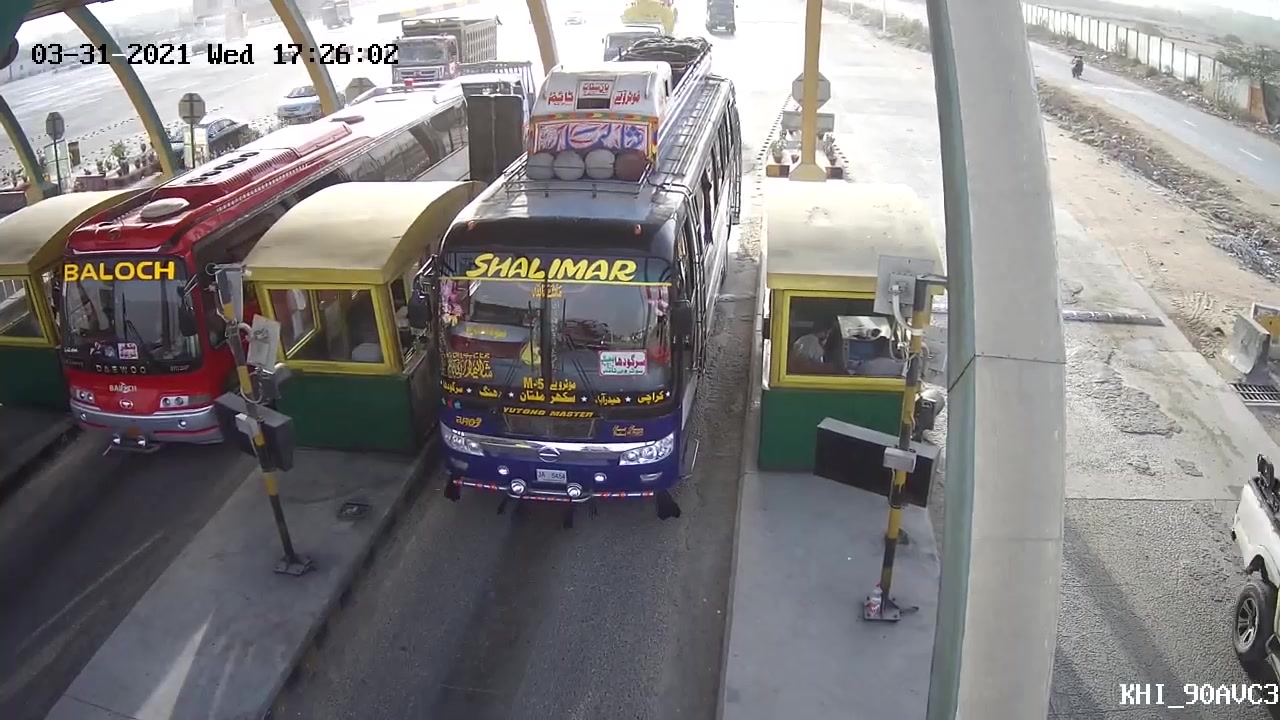F4: (401, 46, 747, 560)
